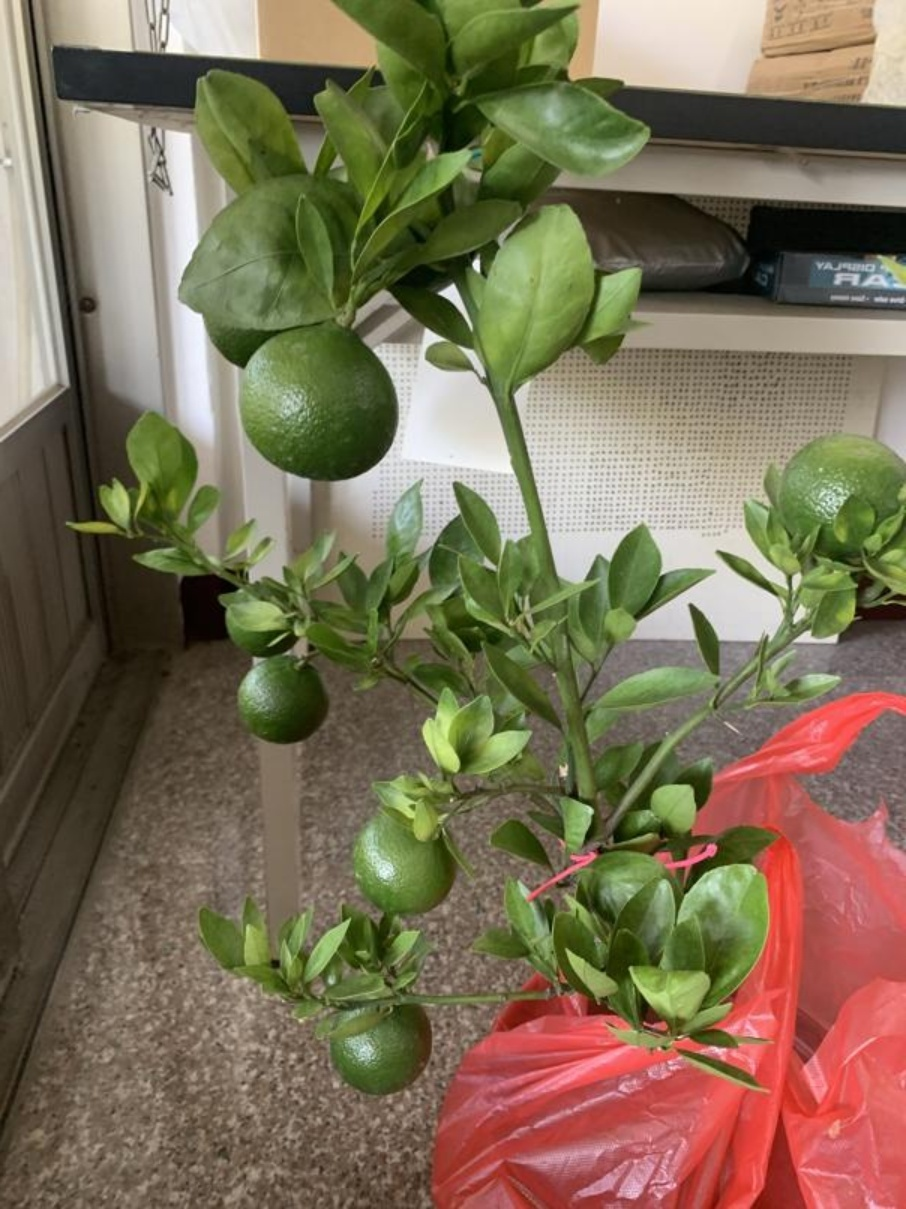Tangerine: (230, 319, 407, 485), (776, 429, 905, 558), (357, 809, 460, 917), (322, 1003, 435, 1096), (238, 651, 331, 747)
